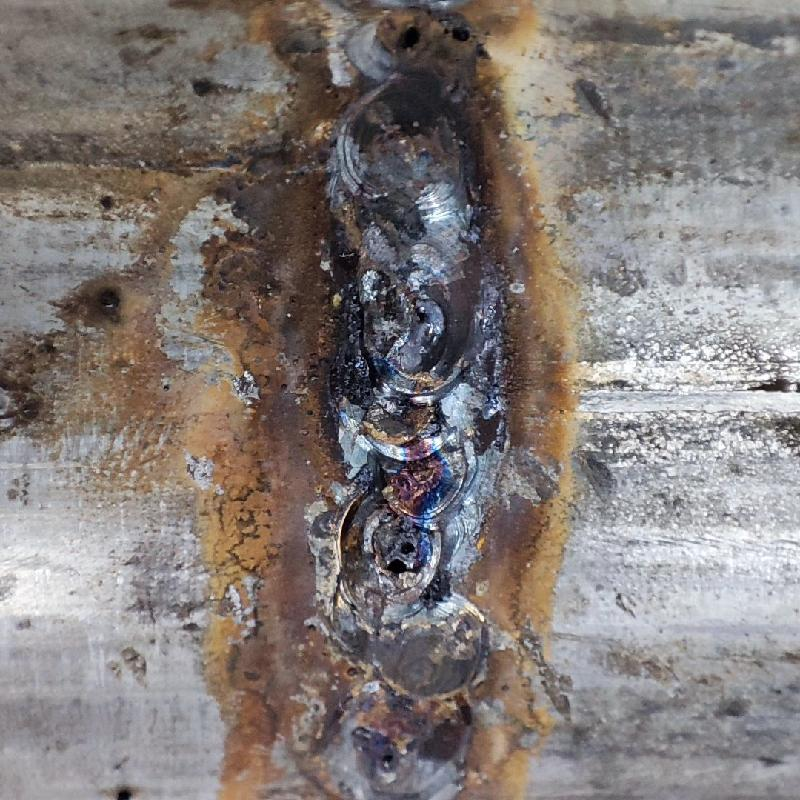Surface_pores: (391, 13, 475, 60), (377, 525, 430, 587)
crater: (342, 271, 475, 795)
